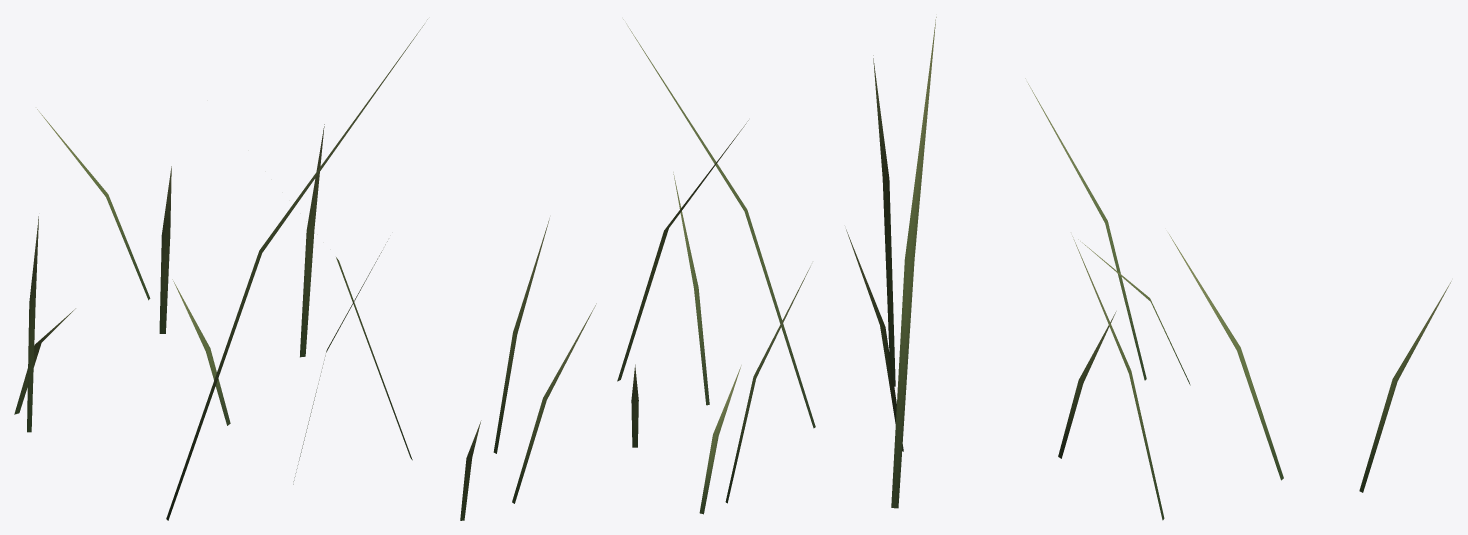
File: woodland_sedges_shadow.gltf
The picture shows the model from 3 angles, left to right: view 1: azimuth 30°, elevation 25°; view 2: azimuth 150°, elevation 25°; view 3: azimuth 270°, elevation 25°; orthographic projection. The views are drawn at different scales.
Parts seen in each view (by area): view 1: woodland_sedges_shadow; view 2: woodland_sedges_shadow; view 3: woodland_sedges_shadow.
Boxes of the visible parts, bbox=[...] form: woodland_sedges_shadow: bbox=[14, 19, 427, 520]; woodland_sedges_shadow: bbox=[460, 19, 815, 520]; woodland_sedges_shadow: bbox=[846, 17, 1451, 520].
Bounding box in the file's own units: 0.6969 × 0.8965 × 1.08.
2 materials, 2 textured.
